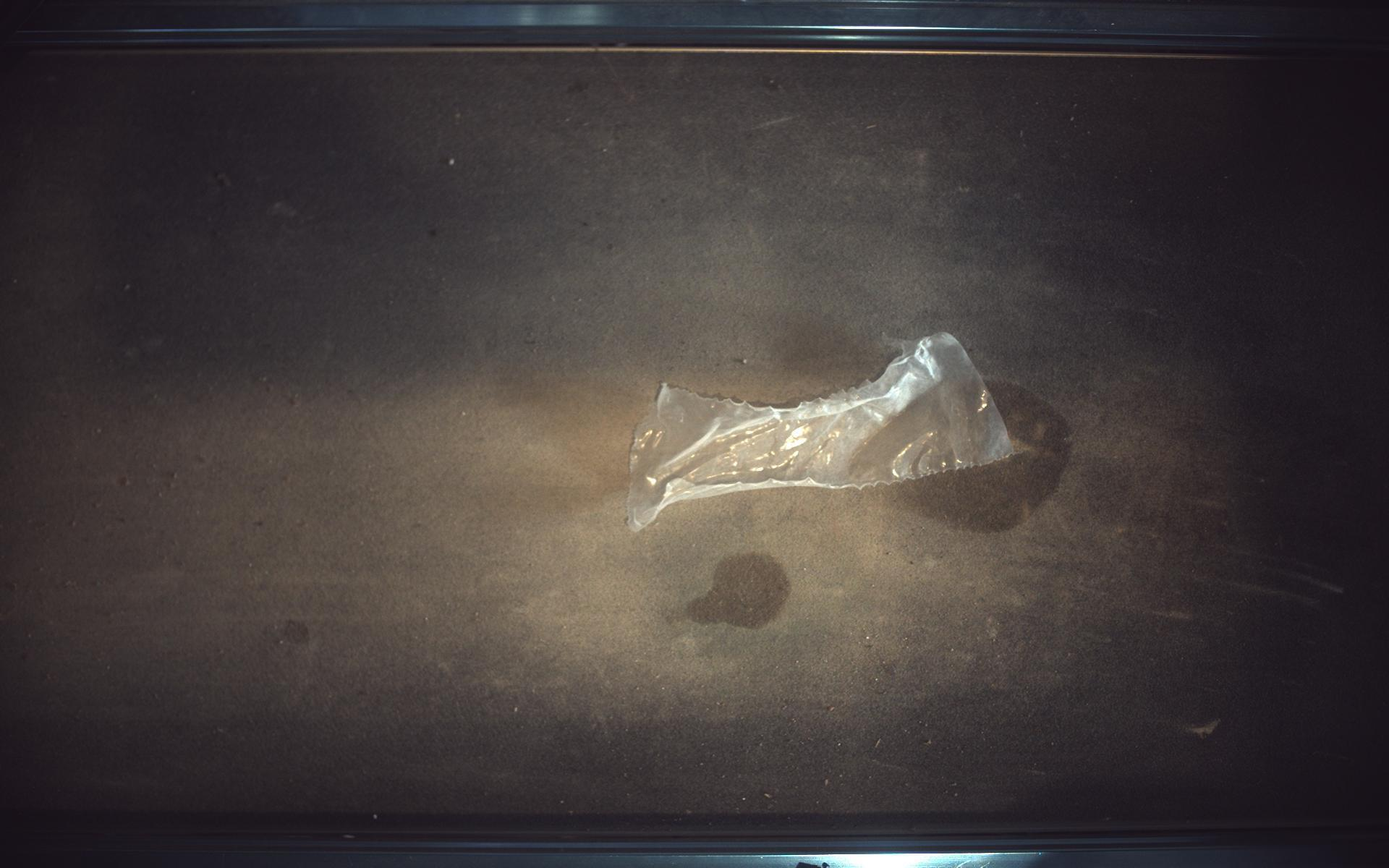general_w: (627, 333, 1014, 532)
